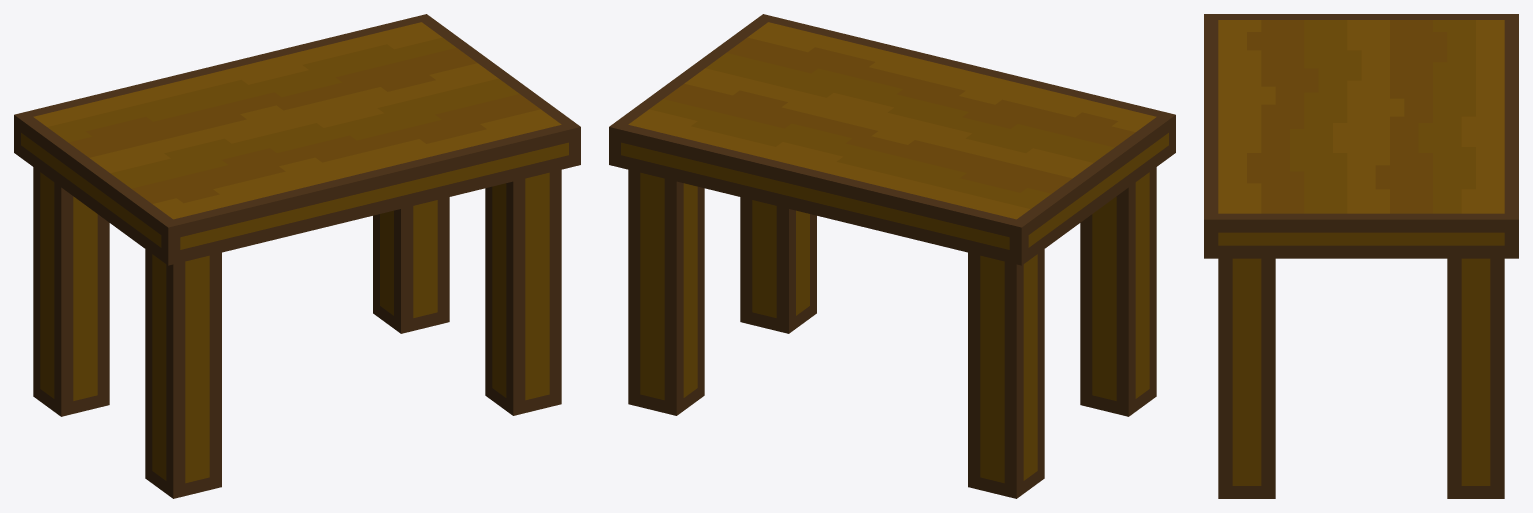
File: Table.fbx
3 views of the same model, side by side, from view 1: azimuth 30°, elevation 25°; view 2: azimuth 150°, elevation 25°; view 3: azimuth 270°, elevation 25° (orthographic). The views are drawn at different scales.
Visible parts, largest first — view 1: Table; view 2: Table; view 3: Table.
Boxes of the visible parts, x1,y1,x2,y2 form: Table: (14,14,580,498); Table: (609,14,1175,498); Table: (1204,14,1518,498).
Bounding box in the file's own units: 3.4 × 2.2 × 2.2.
Materials: 1 (1 with a texture image).
